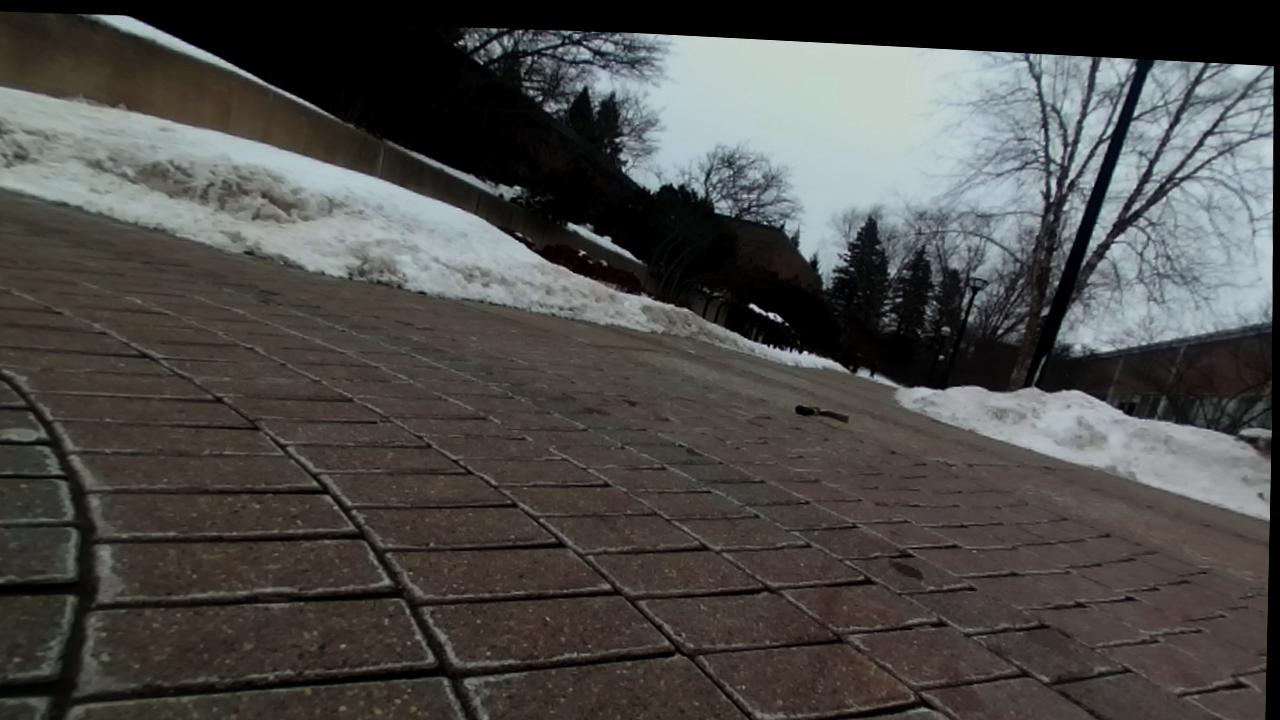pick: (795, 405, 849, 422)
